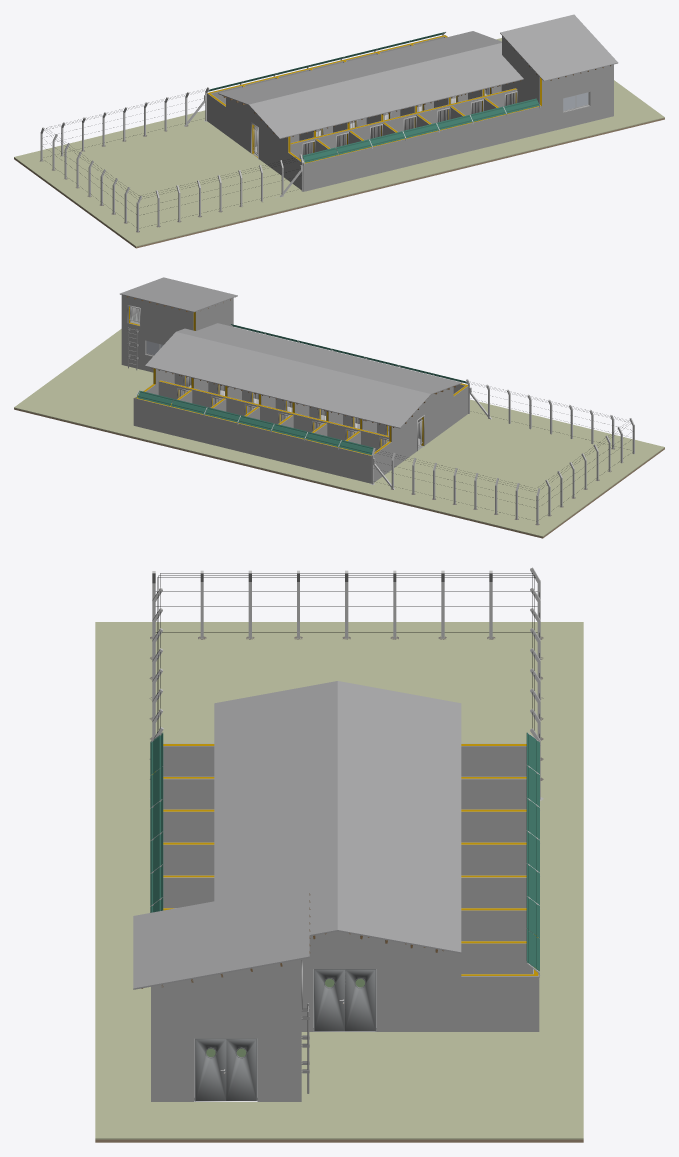
Rendered from CANIL.glb.
3 views of the same model, one above another, from view 1: azimuth 30°, elevation 25°; view 2: azimuth 150°, elevation 25°; view 3: azimuth 270°, elevation 25° (orthographic). The views are drawn at different scales.
Visible parts, largest first — view 1: IFCSLAB|grass|1.00, IFCWALL|wall|1.00, IFCSLAB|roof|1.00, IFCRAILING|fence|1.00, IFCBUILDINGELEMENTPROXY|glass|0.25, IFCDOOR|gate|1.00; view 2: IFCSLAB|grass|1.00, IFCWALL|wall|1.00, IFCSLAB|roof|1.00, IFCRAILING|fence|1.00, IFCBUILDINGELEMENTPROXY|glass|0.25, IFCDOOR|gate|1.00; view 3: IFCSLAB|grass|1.00, IFCSLAB|roof|1.00, IFCWALL|wall|1.00, IFCDOOR|door|1.00, IFCRAILING|fence|1.00, IFCBUILDINGELEMENTPROXY|glass|0.25.
Boxes of the visible parts, left/top/right/bottom form: IFCSLAB|grass|1.00: left=14, top=38, right=664, bottom=248; IFCWALL|wall|1.00: left=207, top=35, right=613, bottom=191; IFCSLAB|roof|1.00: left=218, top=14, right=618, bottom=138; IFCRAILING|fence|1.00: left=39, top=87, right=303, bottom=232; IFCBUILDINGELEMENTPROXY|glass|0.25: left=208, top=32, right=539, bottom=162; IFCDOOR|gate|1.00: left=251, top=87, right=517, bottom=159; IFCSLAB|grass|1.00: left=14, top=329, right=664, bottom=538; IFCWALL|wall|1.00: left=121, top=295, right=468, bottom=483; IFCSLAB|roof|1.00: left=120, top=277, right=461, bottom=428; IFCRAILING|fence|1.00: left=370, top=379, right=634, bottom=525; IFCBUILDINGELEMENTPROXY|glass|0.25: left=136, top=324, right=467, bottom=454; IFCDOOR|gate|1.00: left=127, top=305, right=424, bottom=450; IFCSLAB|grass|1.00: left=95, top=622, right=583, bottom=1142; IFCSLAB|roof|1.00: left=133, top=681, right=461, bottom=989; IFCWALL|wall|1.00: left=151, top=743, right=539, bottom=1101; IFCDOOR|door|1.00: left=194, top=969, right=376, bottom=1101; IFCRAILING|fence|1.00: left=149, top=567, right=543, bottom=800; IFCBUILDINGELEMENTPROXY|glass|0.25: left=150, top=732, right=539, bottom=971.
Size of the model in its own units: 38.45 by 5.65 by 15.38.
